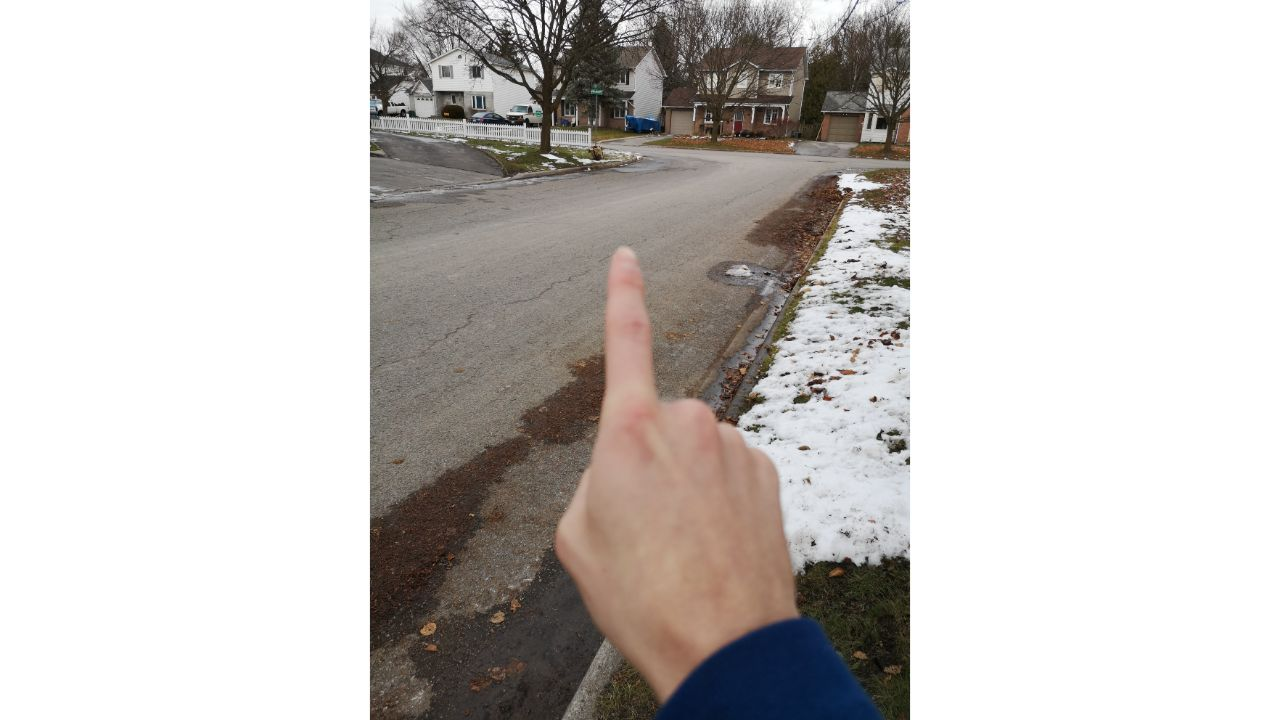finger: (549, 219, 820, 693)
